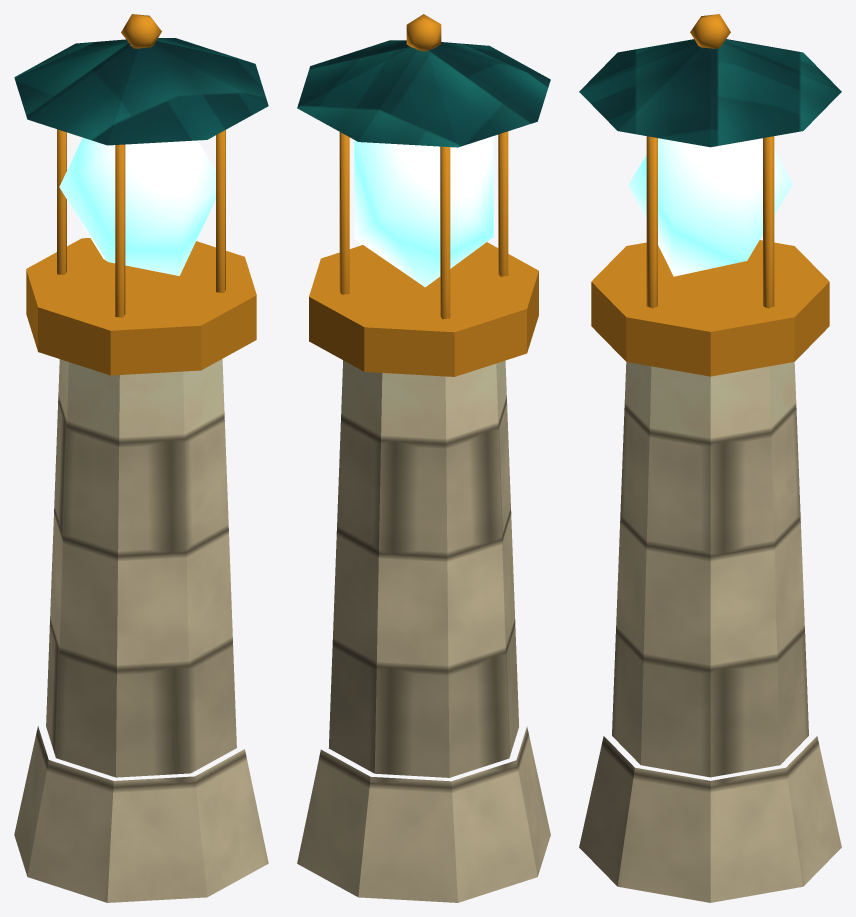
The model's file is pillar_lantern_sky.glb.
The picture shows the model from 3 angles, left to right: view 1: azimuth 30°, elevation 25°; view 2: azimuth 150°, elevation 25°; view 3: azimuth 270°, elevation 25°; orthographic projection.
Parts seen in each view (by area): view 1: pillar_lantern_sky; view 2: pillar_lantern_sky; view 3: pillar_lantern_sky.
Boxes of the visible parts, x1=… form: pillar_lantern_sky: x1=14, y1=14, x2=268, y2=902; pillar_lantern_sky: x1=297, y1=14, x2=550, y2=902; pillar_lantern_sky: x1=579, y1=14, x2=841, y2=902.
Bounding box in the file's own units: 0.64 × 2.23 × 0.64.
Materials: 4 (2 with a texture image).
